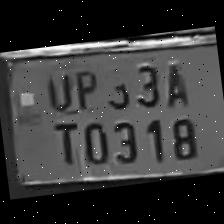0: (76, 112, 110, 164)
1: (138, 112, 169, 162)
3: (96, 55, 132, 110), (106, 112, 140, 164), (129, 55, 162, 108)
8: (164, 111, 199, 158)
A: (156, 53, 191, 109)
P: (66, 62, 101, 112)
T: (45, 112, 81, 166)
U: (38, 64, 76, 114)
